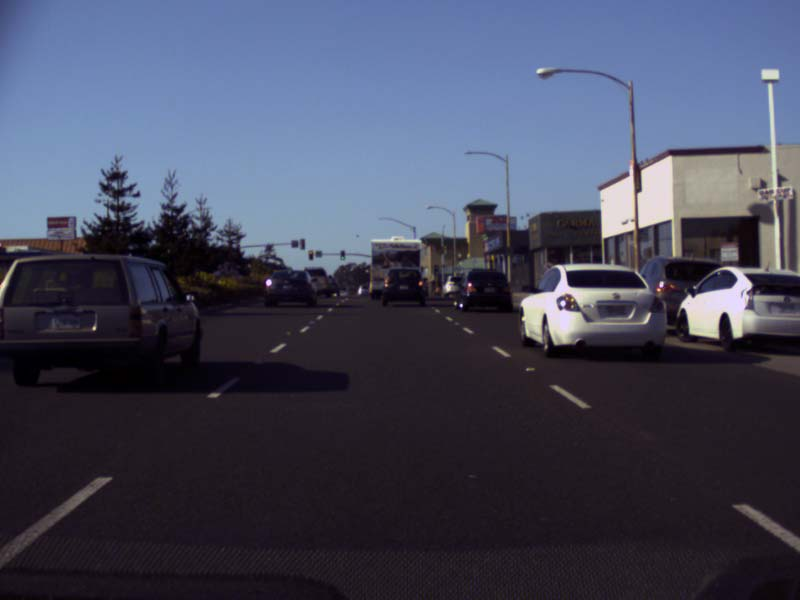Green: (339, 249, 345, 260)
Red: (307, 249, 313, 261)
